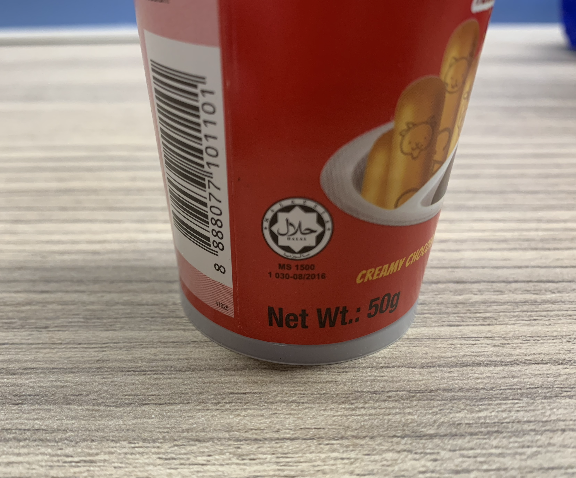halal: (273, 208, 323, 254)
